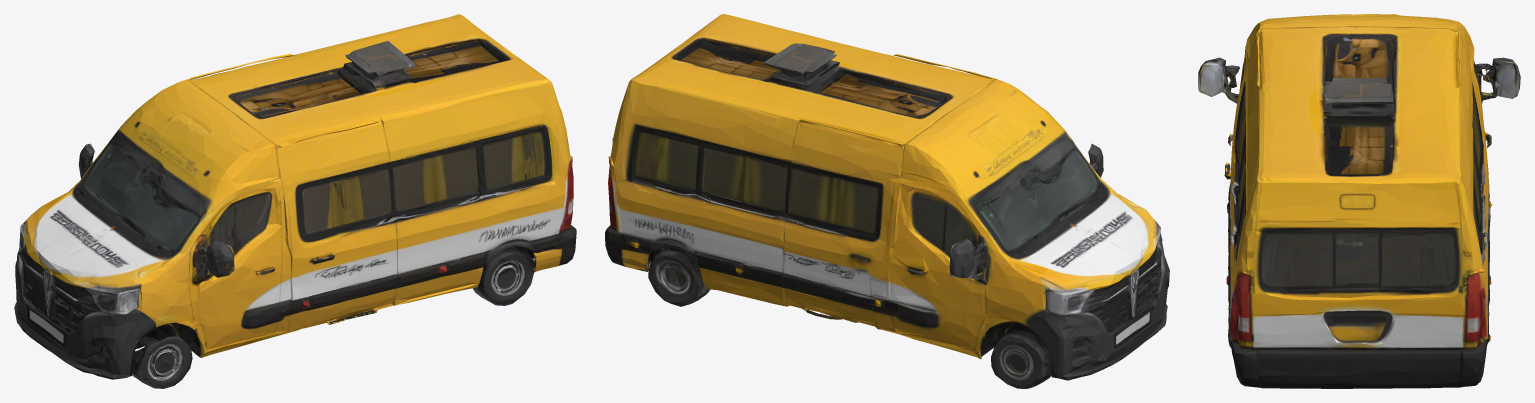
Rendered from School_Bus_Vehicle__0622105901_texture.fbx.
3 renders of one model, left to right at view 1: azimuth 30°, elevation 25°; view 2: azimuth 150°, elevation 25°; view 3: azimuth 270°, elevation 25°, orthographic. The views are drawn at different scales.
Parts seen in each view (by area): view 1: temp; view 2: temp; view 3: temp.
Part boxes in pixels (<box>): temp: <box>14,14,576,388</box>; temp: <box>605,14,1169,388</box>; temp: <box>1198,14,1520,388</box>.
Bounding box in the file's own units: 199 × 90.77 × 104.
1 material, 1 textured.
